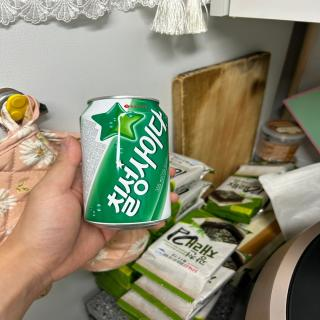chilsung: (77, 92, 174, 230)
